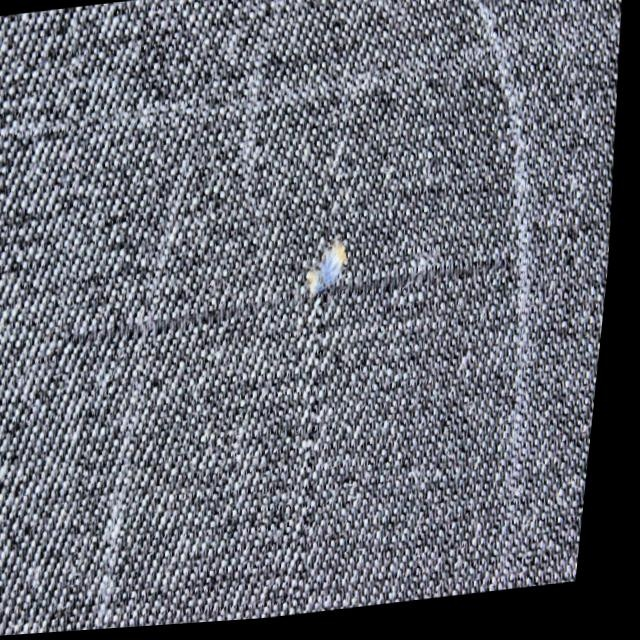Hole: (7, 261, 355, 385), (298, 236, 352, 304)
